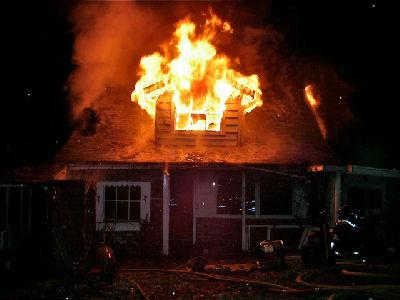fire: (133, 13, 269, 147), (303, 81, 331, 121)
